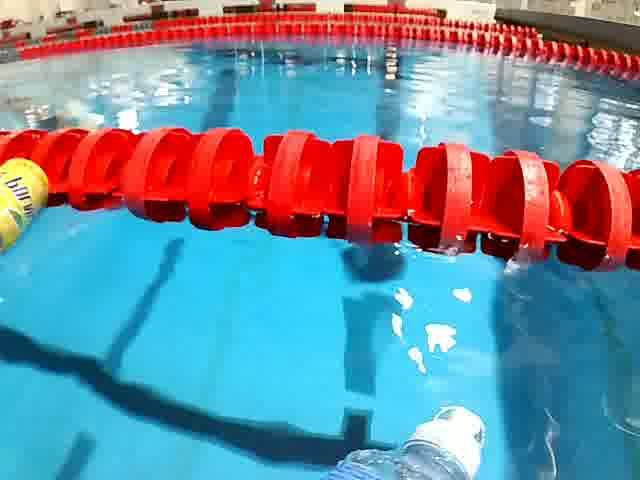Bottle: (326, 399, 494, 480)
Can: (0, 154, 54, 256)
